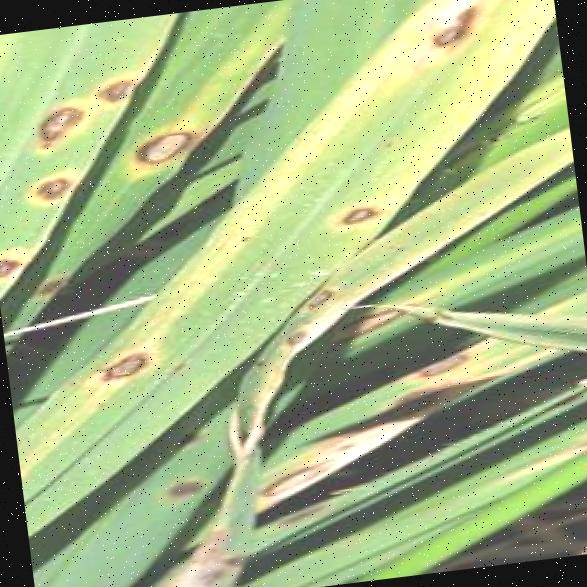Brown_Spot: (365, 0, 524, 70), (100, 106, 209, 196), (13, 84, 101, 164), (244, 445, 350, 504), (6, 150, 88, 223), (310, 178, 400, 244), (80, 332, 166, 396), (74, 54, 151, 118), (402, 337, 480, 392), (140, 463, 218, 509), (0, 229, 39, 302), (288, 270, 344, 315), (267, 314, 320, 358), (164, 352, 193, 376), (226, 227, 256, 250), (244, 354, 272, 374), (57, 373, 80, 393), (92, 392, 114, 412), (376, 130, 396, 150)
